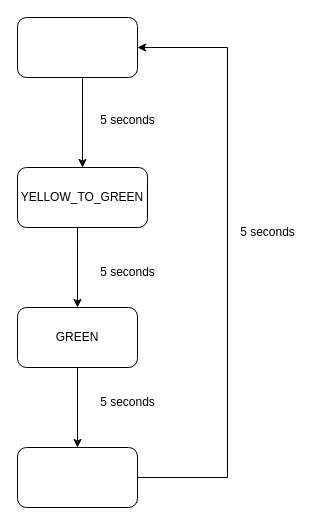
Image size: 325x525. Some labels were removed from this diagram. The centre of each missing label's shape, as x and y in pixels:
"RED" goes at (x=77, y=47).
"YELLOW_TO_RED" goes at (x=77, y=477).
